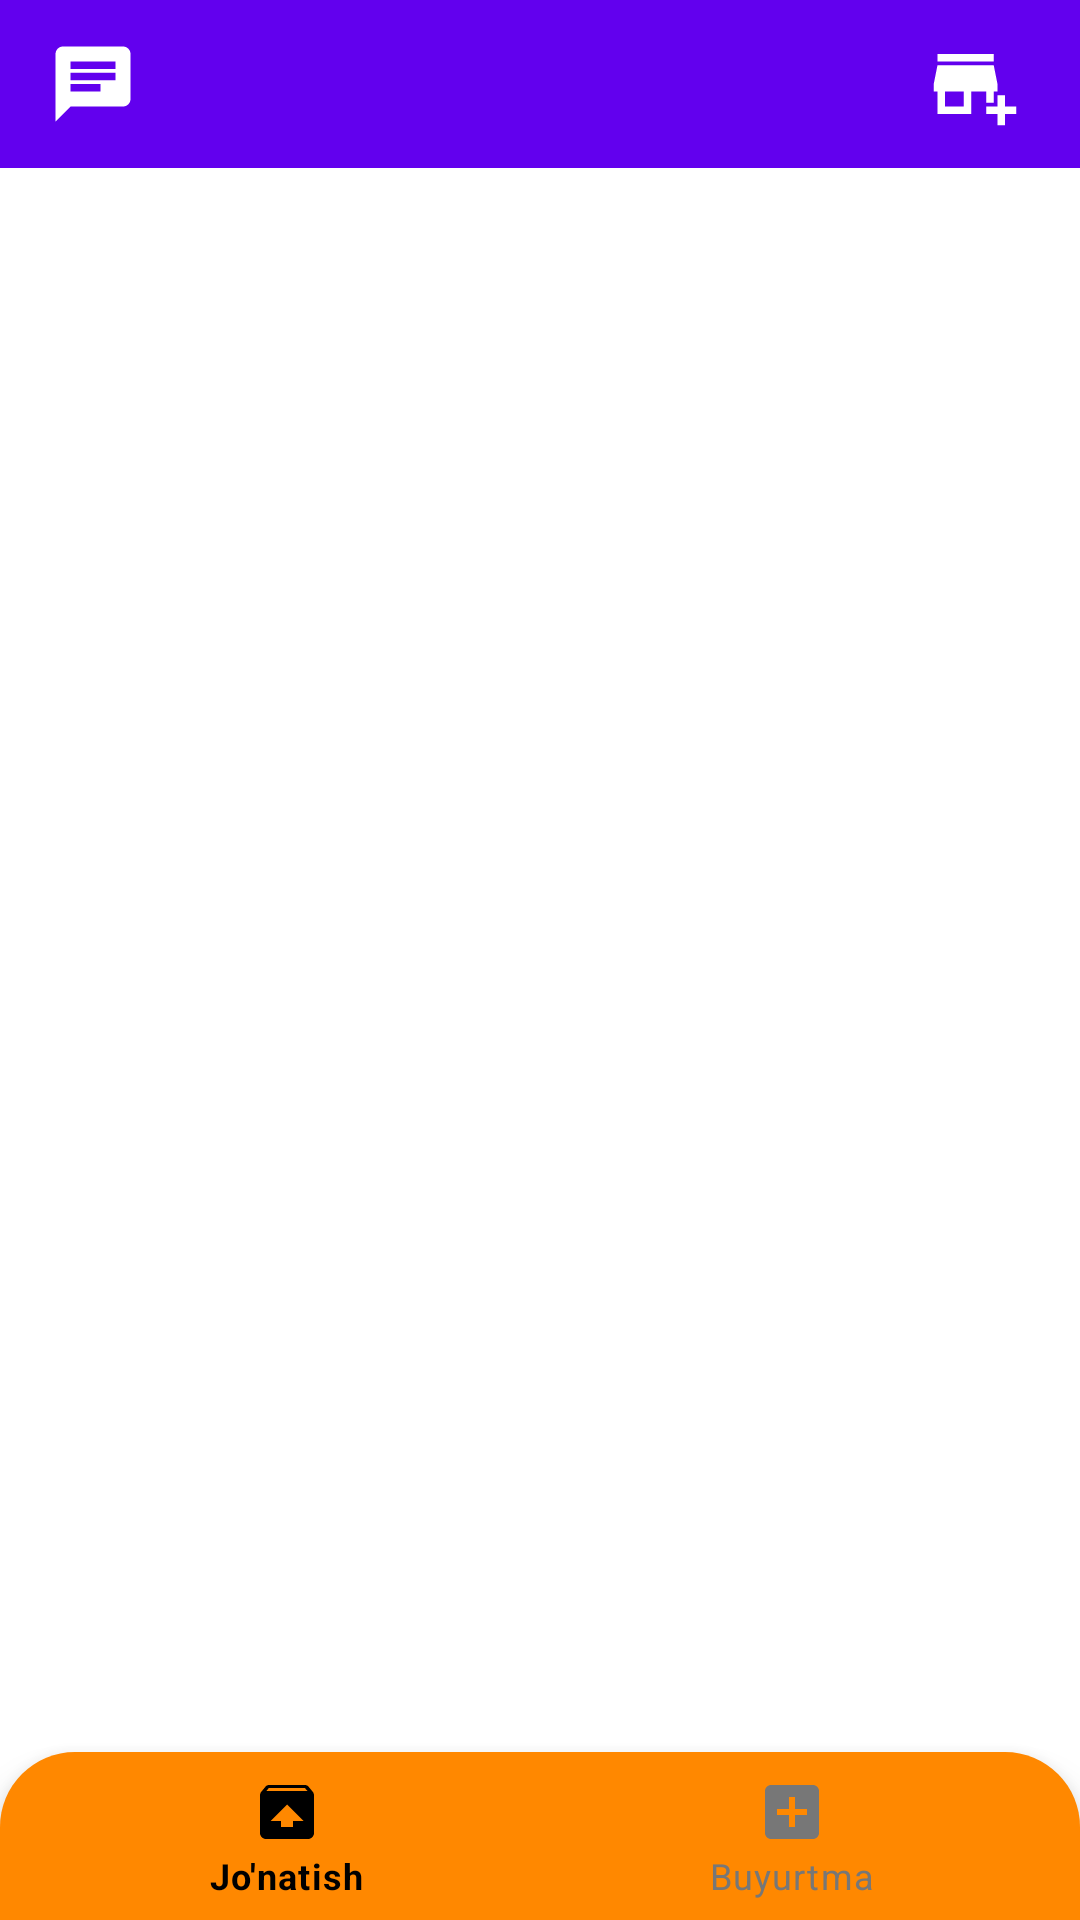

Point at icon controls on the screen. Image size 1080 x 1920, points as point (x, y).
chat: point (93, 84)
